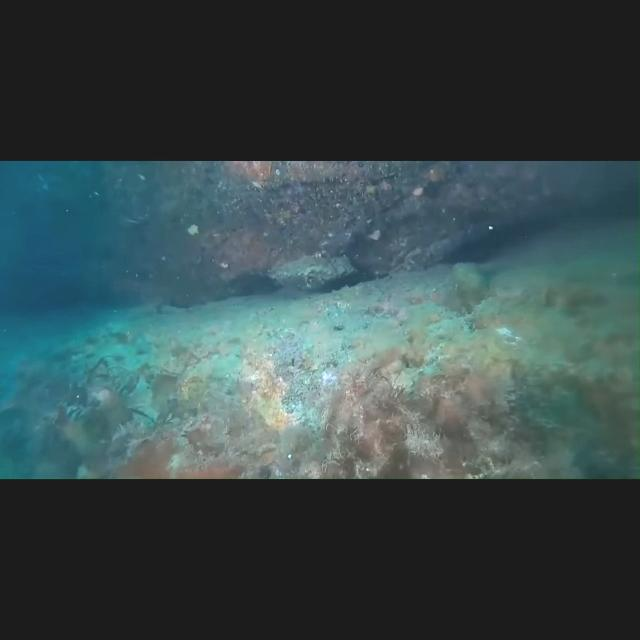Oyster-Closed: (269, 255, 353, 292)
